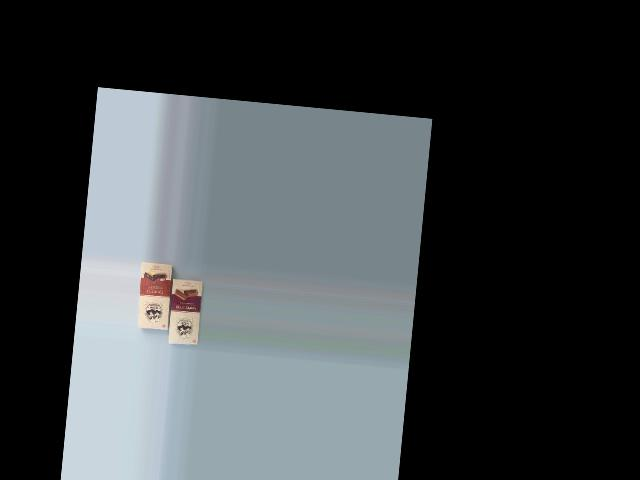chocolate: (134, 260, 180, 334)
